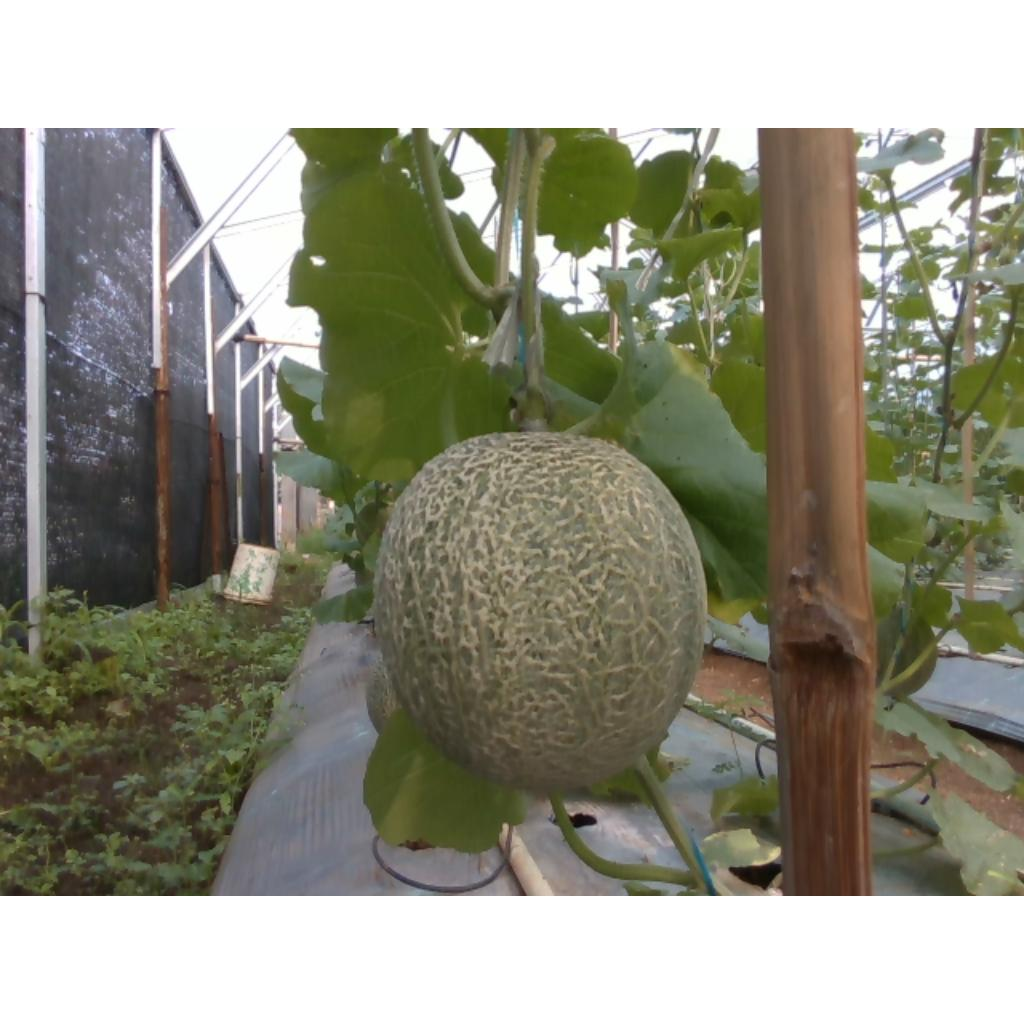melon: (378, 432, 707, 791)
